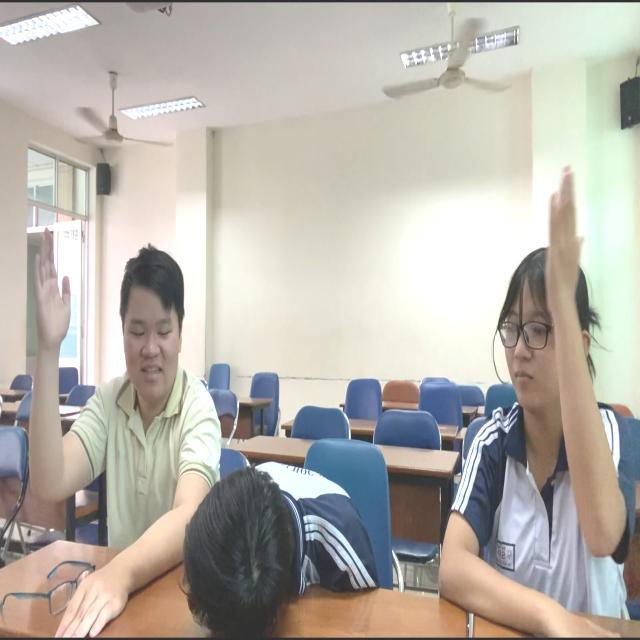raise_hand: (417, 131, 640, 640), (25, 197, 221, 632)
sleep: (181, 452, 386, 640)
